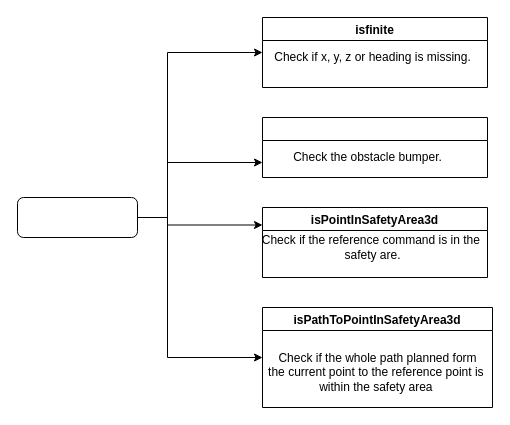
Image size: 510x425. Some labels were removed from this diagram. Each missing label, with the box of its shape:
bumperValidatePoint: (262, 116, 488, 178)
setReference: (16, 196, 138, 238)
